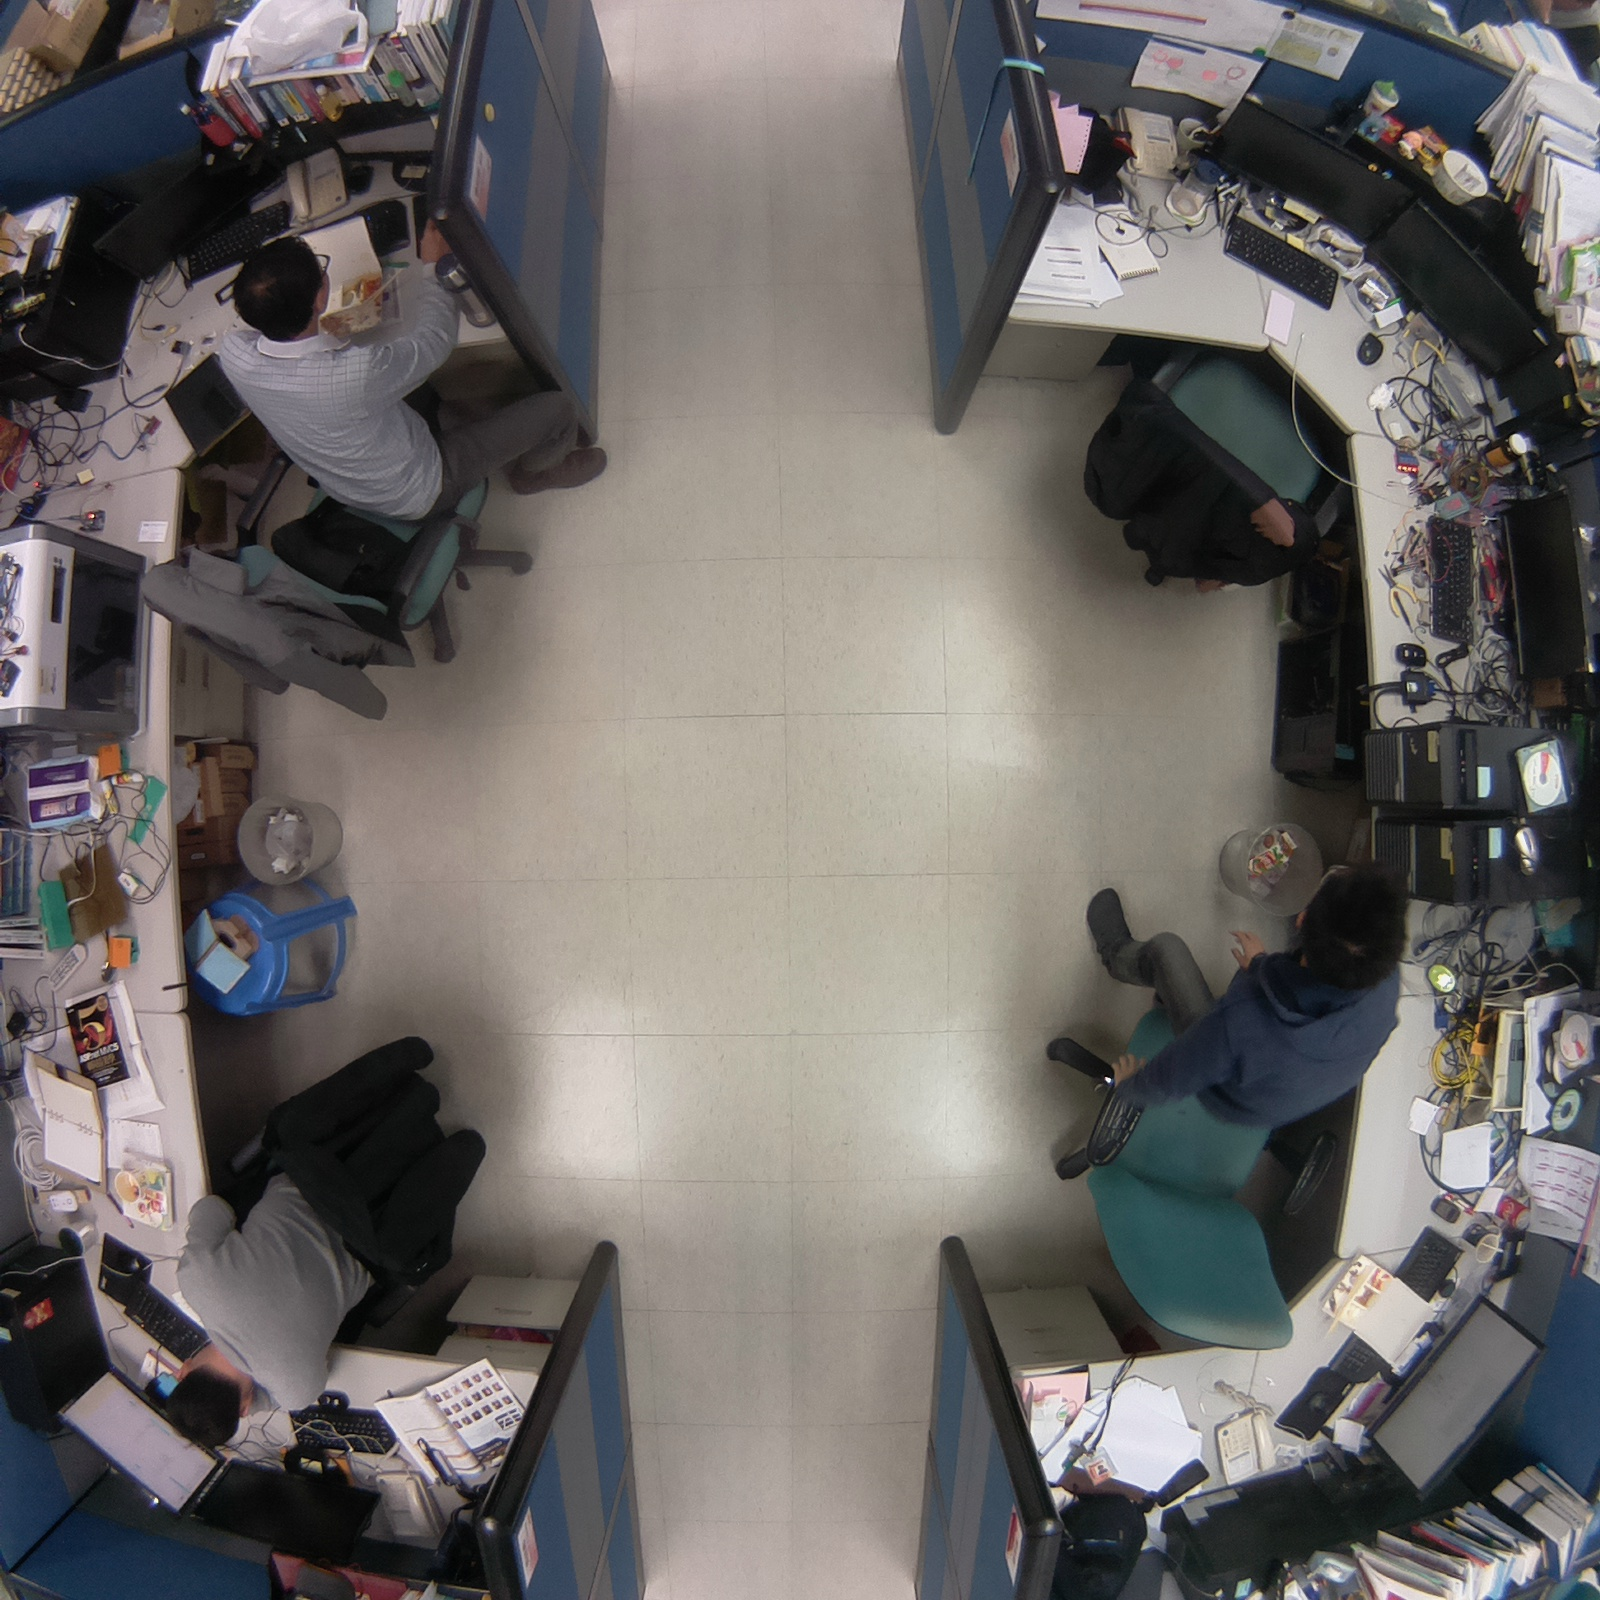chair: (1074, 322, 1363, 611)
sitting: (123, 198, 630, 740), (1021, 840, 1429, 1382), (139, 1023, 501, 1458)
